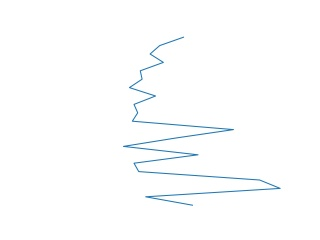crevasseRiverBedLagDeposit: (118, 32, 284, 211)
